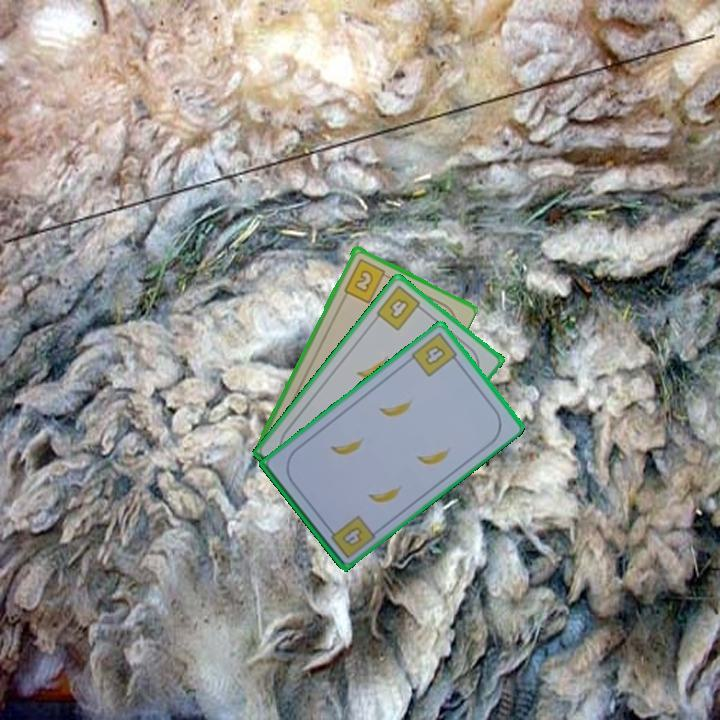2b: (340, 255, 393, 306)
4b: (372, 282, 428, 334), (408, 329, 463, 380), (324, 511, 378, 561)
